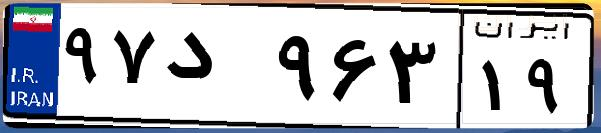1: (475, 38, 525, 113)
3: (385, 28, 445, 110)
6: (330, 28, 385, 110)
7: (110, 28, 158, 98)
9: (270, 28, 330, 110), (57, 26, 110, 100), (525, 38, 570, 115)
د: (158, 20, 270, 120)
